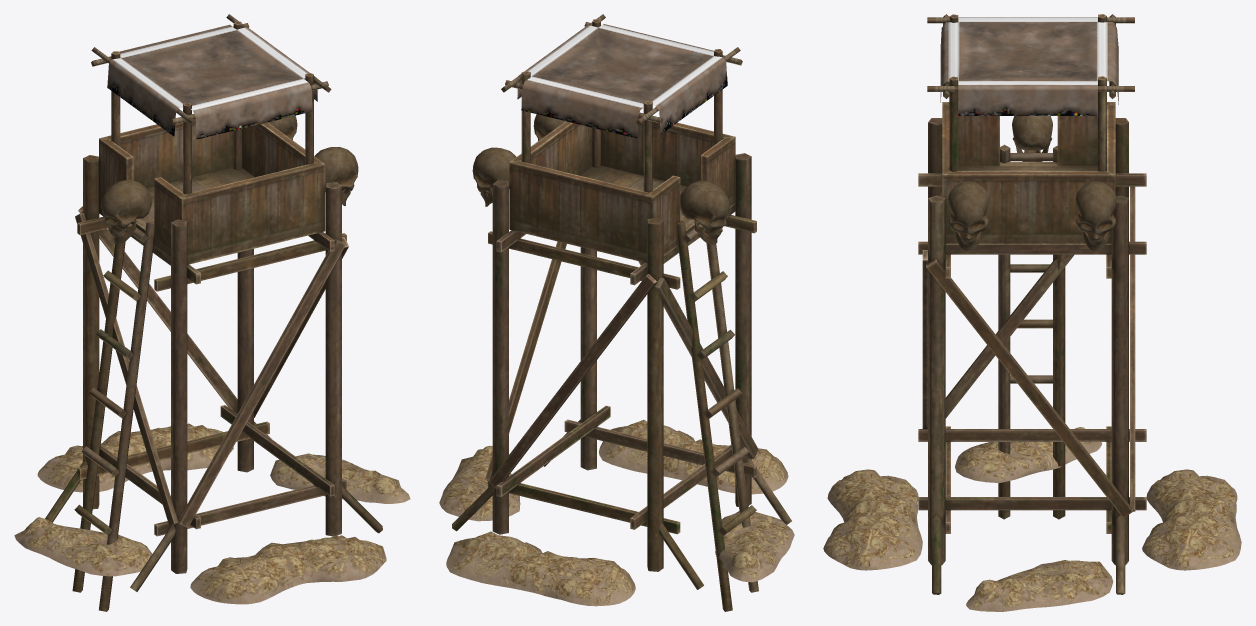
The model's file is 70-base-tzompantli_tower_z_age1.glb.
The picture shows the model from 3 angles, left to right: view 1: azimuth 30°, elevation 25°; view 2: azimuth 150°, elevation 25°; view 3: azimuth 270°, elevation 25°; orthographic projection. The views are drawn at different scales.
Bounding box in the file's own units: 3.77 × 5.33 × 3.81.
Materials: 3 (3 with a texture image).
